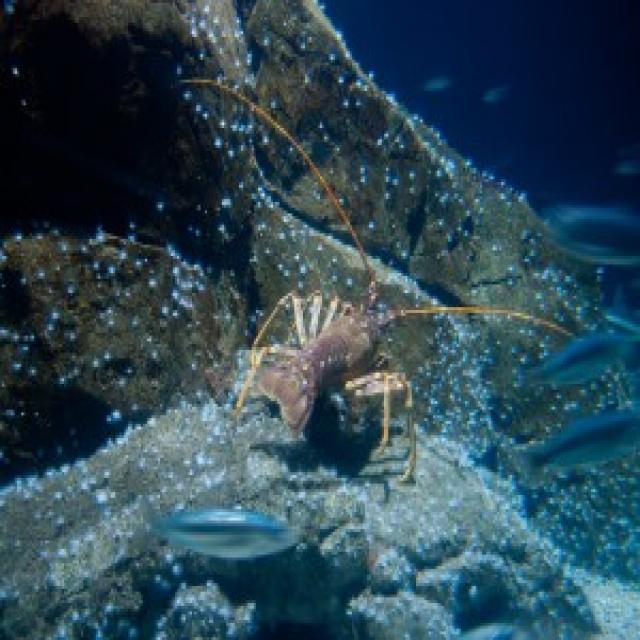lobsters: (176, 154, 565, 494)
